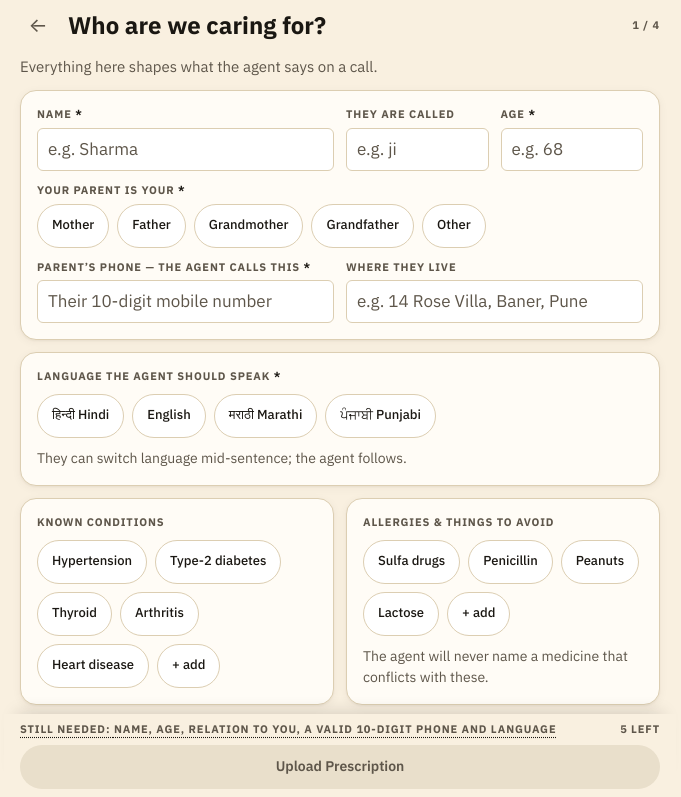
Test: the parent form CTA › names what is still missing, not just how many
Type "Sharma" into the field named "Name" at (186, 149), box x1=37 y1=128 x2=334 y2=171
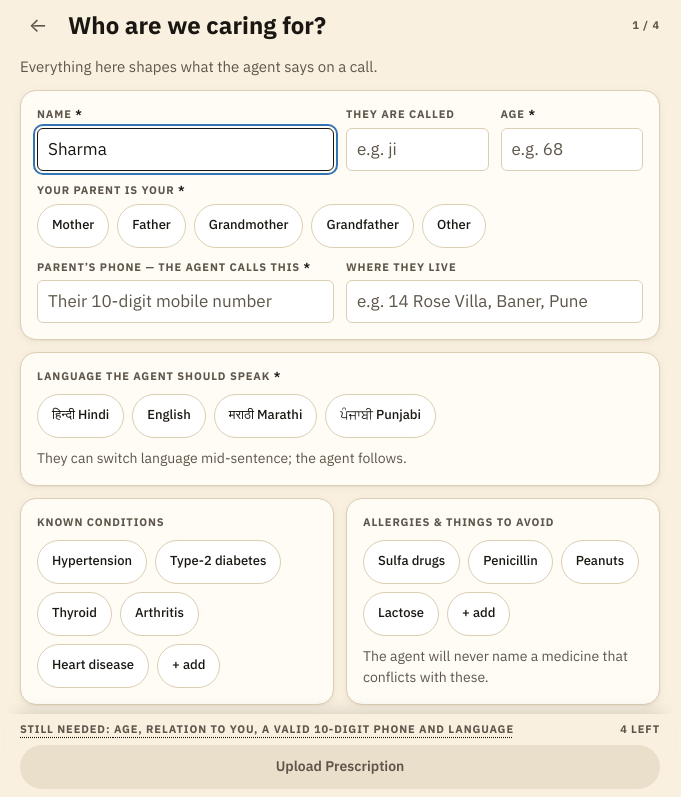
Type "68" into the field named "Age" at (572, 149), box x1=500 y1=128 x2=643 y2=171
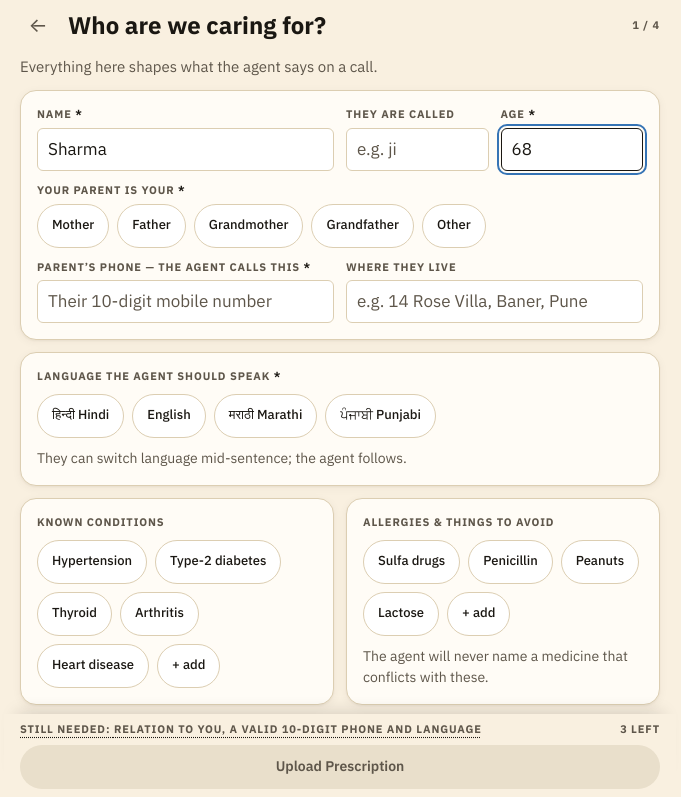
Type "9876543210" into the field named "the agent calls this" at (186, 302), box x1=37 y1=280 x2=334 y2=323
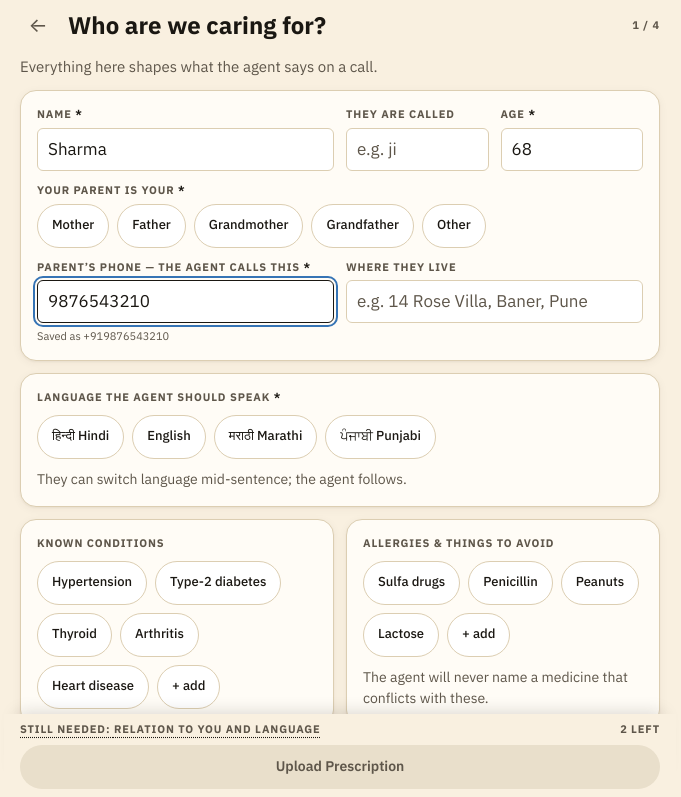
Expected: the text "Still needed: relation to you and language" is shown, x1=20 y1=722 x2=321 y2=736
